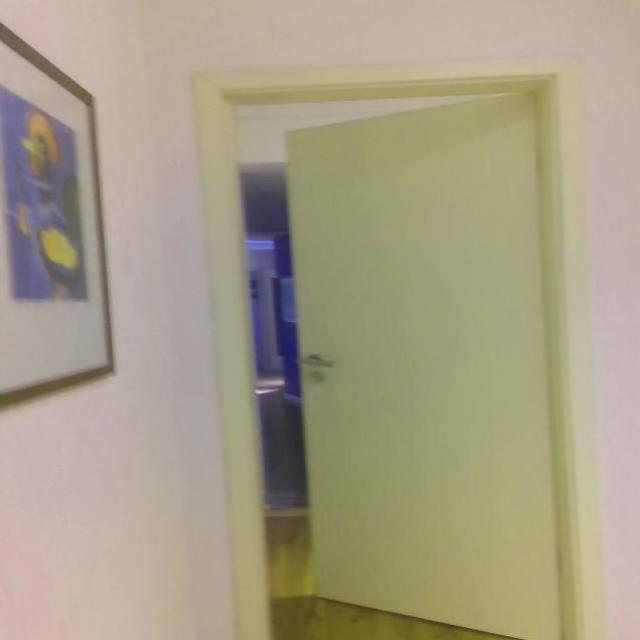door: (282, 89, 564, 638)
